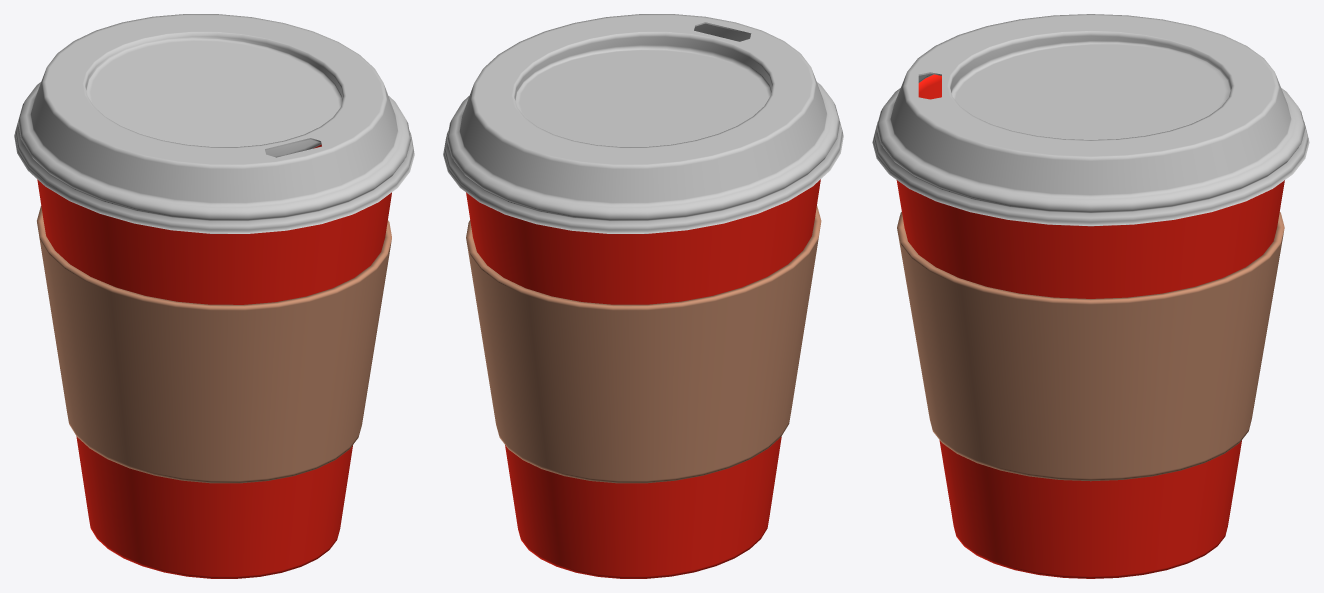
Rendered from coffecup.obj.
3 views of the same model, side by side, from view 1: azimuth 30°, elevation 25°; view 2: azimuth 150°, elevation 25°; view 3: azimuth 270°, elevation 25° (orthographic).
Parts seen in each view (by area): view 1: Lid_Circle.002, Sleeve_Circle.001, Cup_Circle.001; view 2: Lid_Circle.002, Sleeve_Circle.001, Cup_Circle.001; view 3: Lid_Circle.002, Sleeve_Circle.001, Cup_Circle.001.
Boxes of the visible parts, bbox=[...] form: Lid_Circle.002: bbox=[14, 14, 414, 233]; Sleeve_Circle.001: bbox=[37, 206, 391, 483]; Cup_Circle.001: bbox=[37, 144, 391, 578]; Lid_Circle.002: bbox=[443, 14, 843, 233]; Sleeve_Circle.001: bbox=[466, 206, 821, 483]; Cup_Circle.001: bbox=[466, 179, 820, 578]; Lid_Circle.002: bbox=[872, 14, 1309, 226]; Sleeve_Circle.001: bbox=[897, 212, 1284, 481]; Cup_Circle.001: bbox=[896, 74, 1284, 578].
Bounding box in the file's own units: 0.5658 × 0.6931 × 0.6234.
